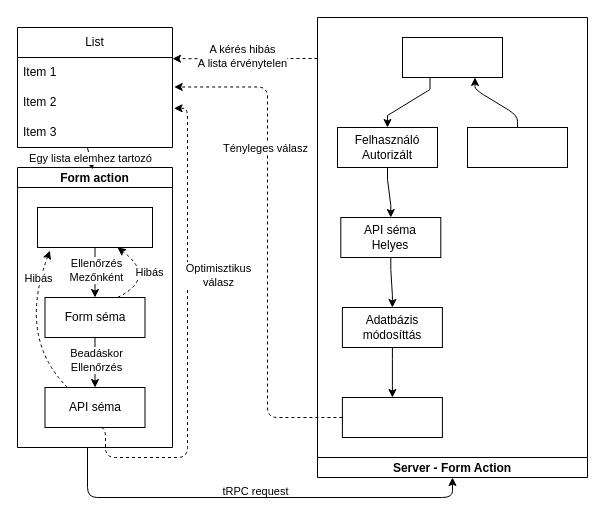
The diagram is 605 pixels wide and 528 high, and some of its shapes have lost their labels. Here are the shapes that lost their labels. From the top down, the centre of each, then its label:
point 452,57: Felhasználó autentikált
point 517,147: Kérés
point 94,227: Módosíttandó adat
point 391,417: Szerver válasz
